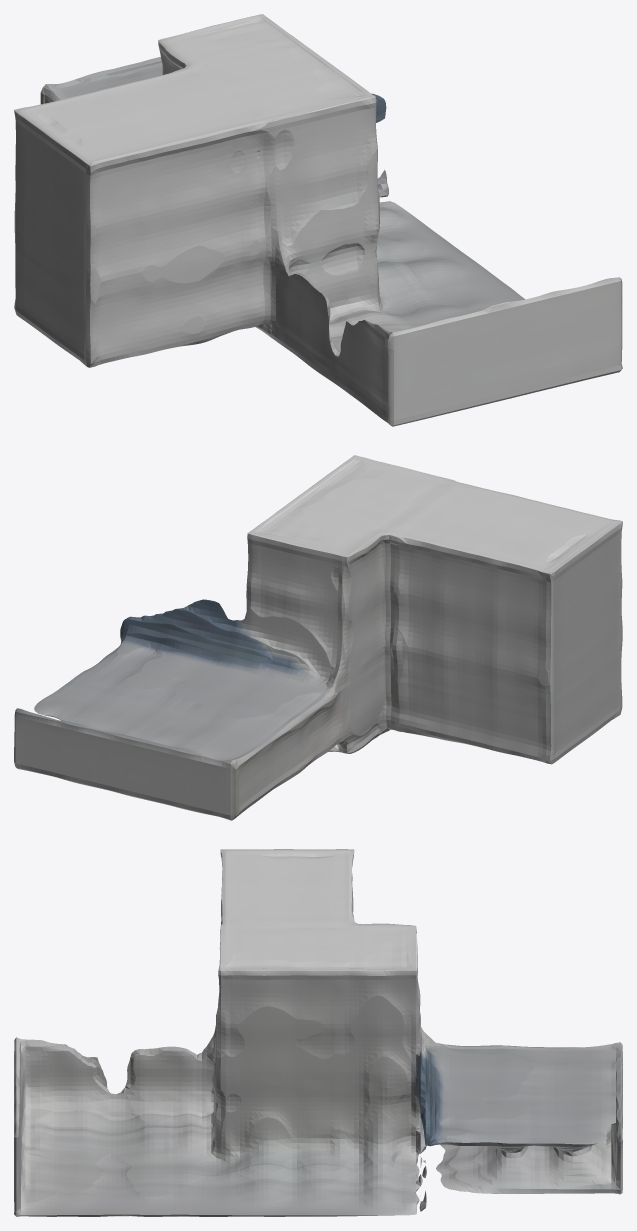
Rendered from df2cc2ce-31ce-4fbc-9ac1-9d5a04d4aac4.glb.
3 renders of one model, top to bottom at view 1: azimuth 30°, elevation 25°; view 2: azimuth 150°, elevation 25°; view 3: azimuth 270°, elevation 25°, orthographic. The views are drawn at different scales.
Parts seen in each view (by area): view 1: tmpve1chjuh.ply; view 2: tmpve1chjuh.ply; view 3: tmpve1chjuh.ply.
Part boxes in pixels (x1,y1,x2,y2): tmpve1chjuh.ply: (14, 14, 622, 426); tmpve1chjuh.ply: (14, 455, 622, 820); tmpve1chjuh.ply: (14, 849, 622, 1216).
Size of the model in its own units: 1.37 by 0.7 by 1.98.
